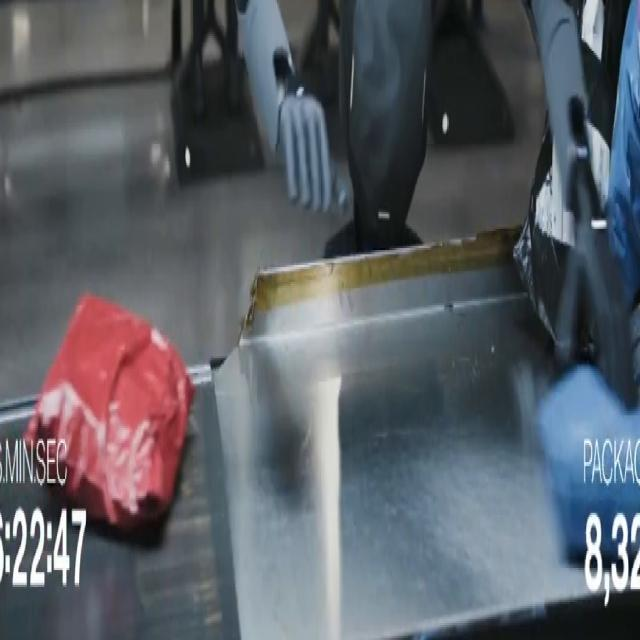package: (25, 295, 194, 531), (536, 365, 639, 566), (570, 0, 615, 241), (608, 0, 639, 307)
